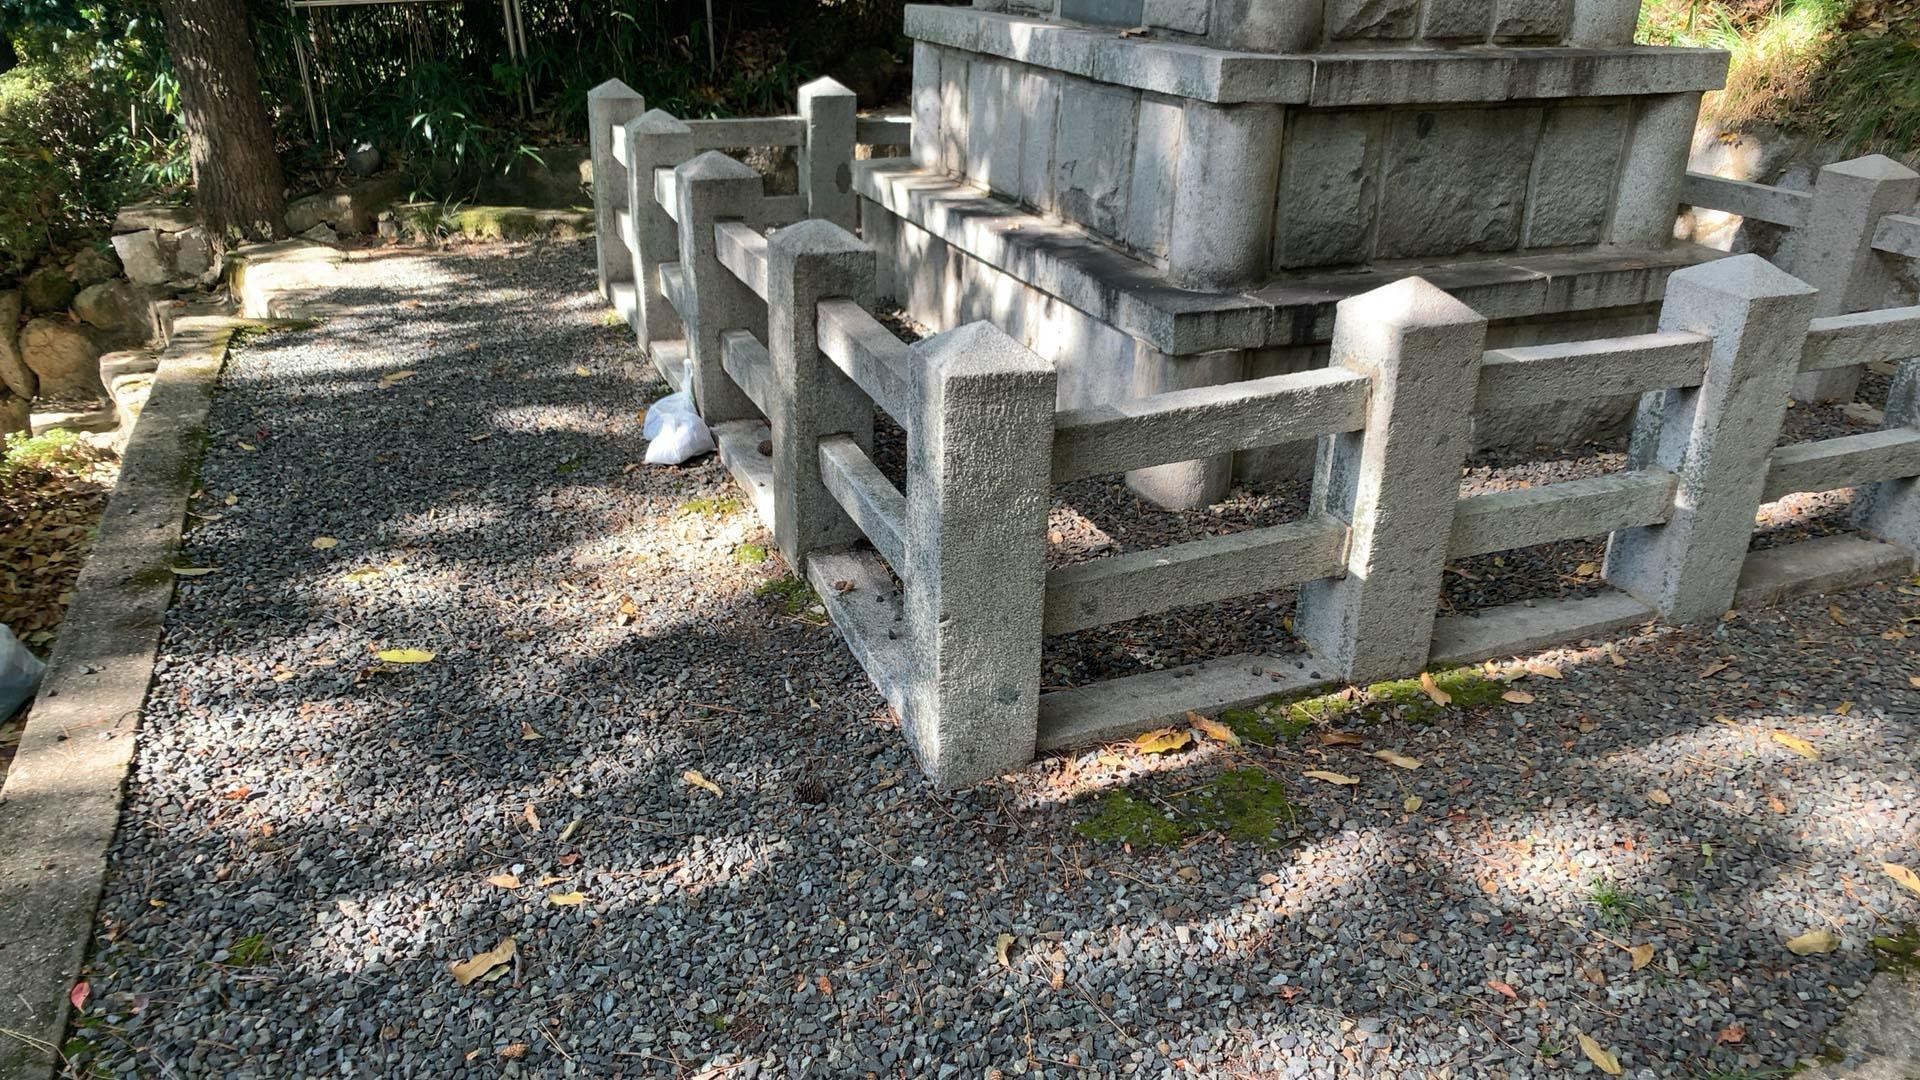white_bag: (637, 355, 720, 467)
